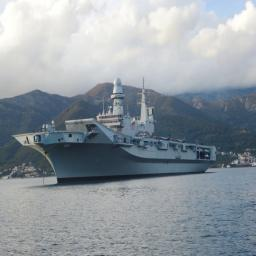Portanaves: (11, 75, 219, 191)
